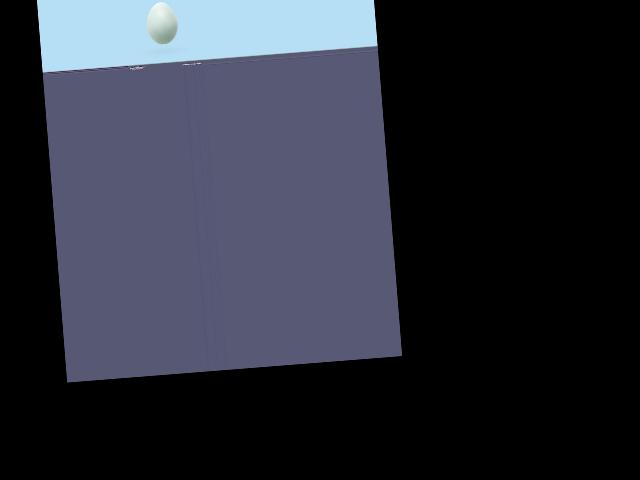egg: (145, 0, 179, 45)
